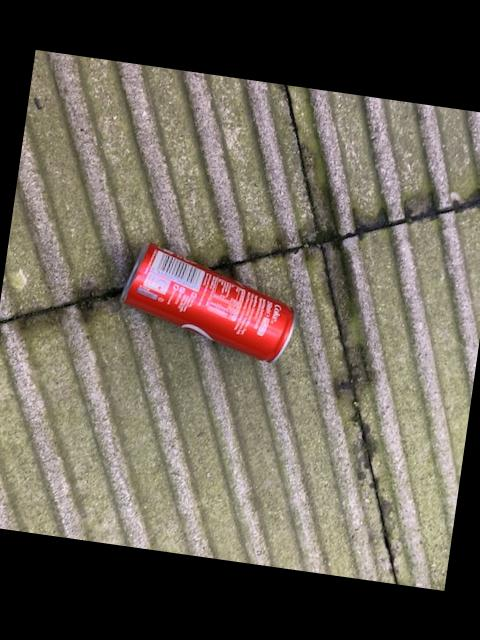metal: (120, 244, 291, 362)
